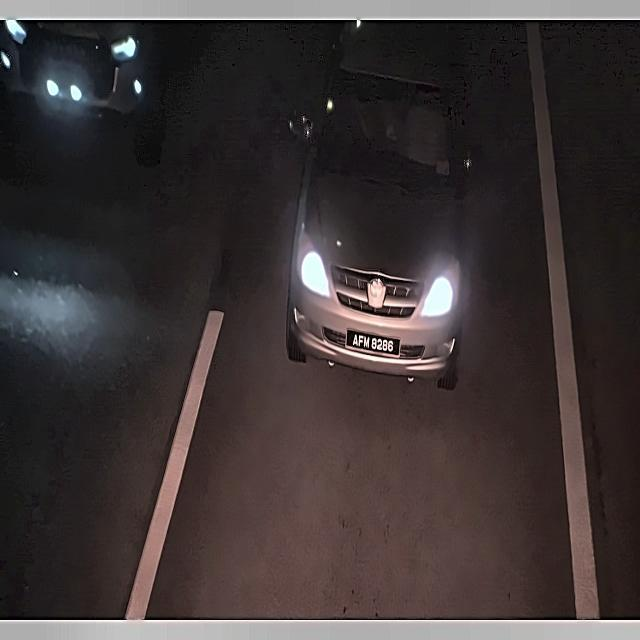car: (343, 322, 404, 364)
